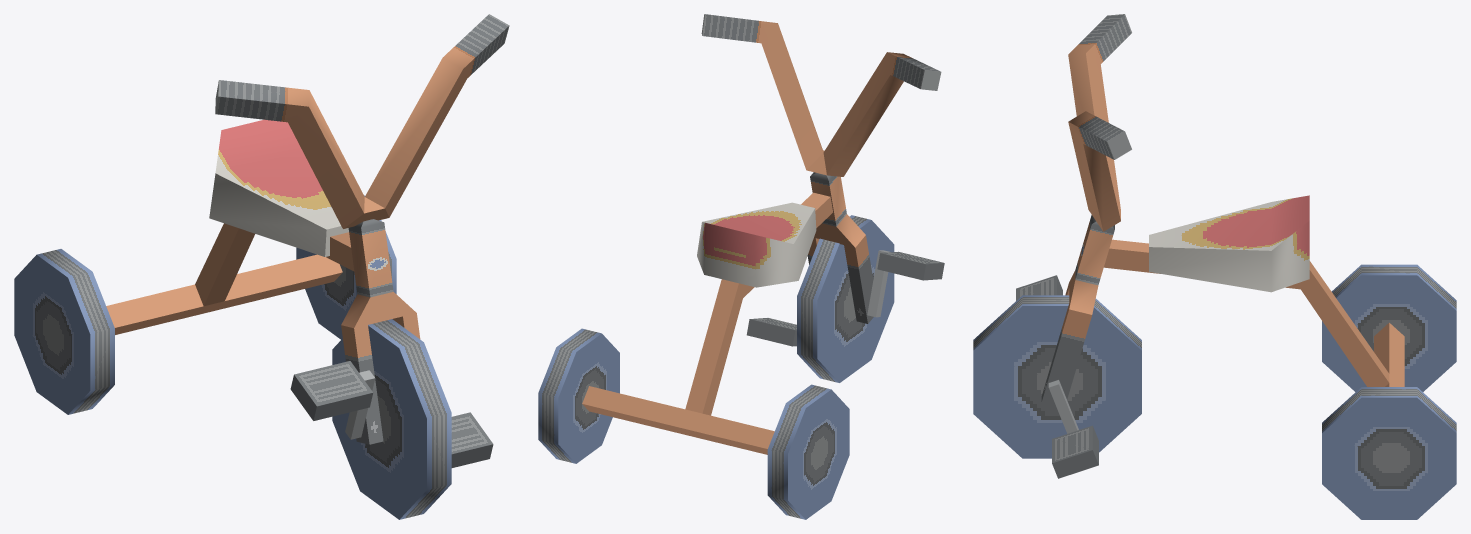
The model's file is 0148_Kid_s_Tricycle.glb.
The picture shows the model from 3 angles, left to right: view 1: azimuth 30°, elevation 25°; view 2: azimuth 150°, elevation 25°; view 3: azimuth 270°, elevation 25°; orthographic projection. The views are drawn at different scales.
Parts seen in each view (by area): view 1: part_0; view 2: part_0; view 3: part_0.
Part boxes in pixels (x1,y1,x2,y2): part_0: (14,14,509,519); part_0: (538,14,944,519); part_0: (973,14,1456,519).
Bounding box in the file's own units: 0.435 × 0.5801 × 0.6676.
Materials: 1 (1 with a texture image).
